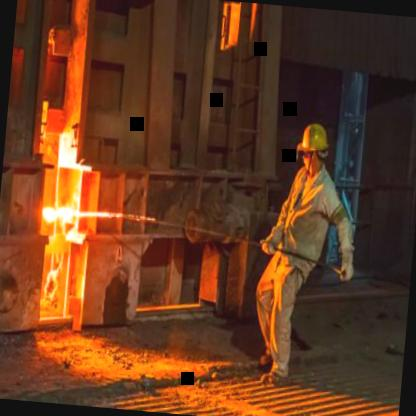helmet: (295, 118, 335, 176)
